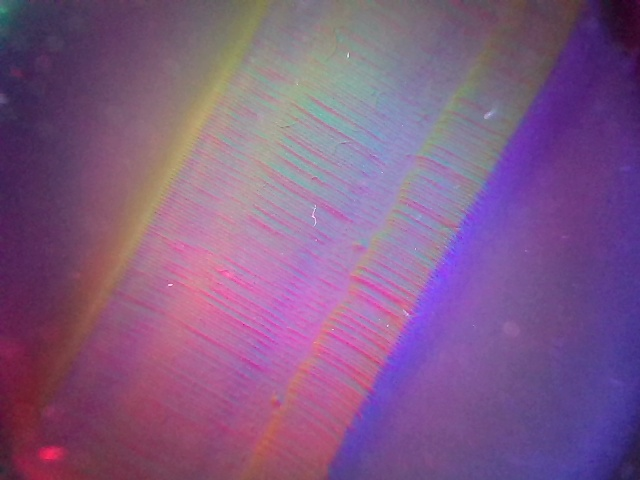contact: (58, 0, 580, 477)
